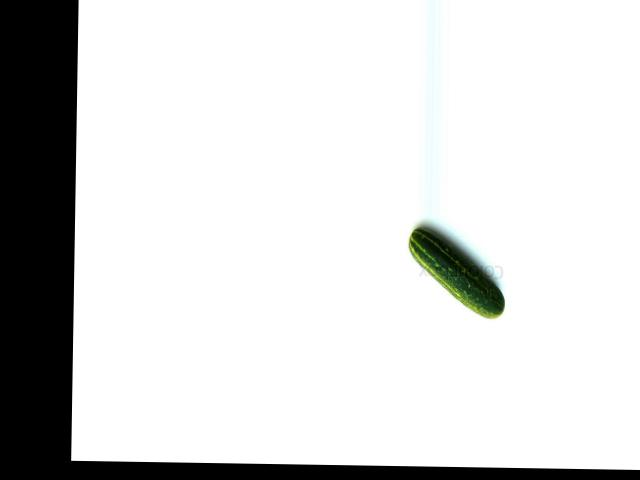cucumber: (406, 227, 505, 319)
